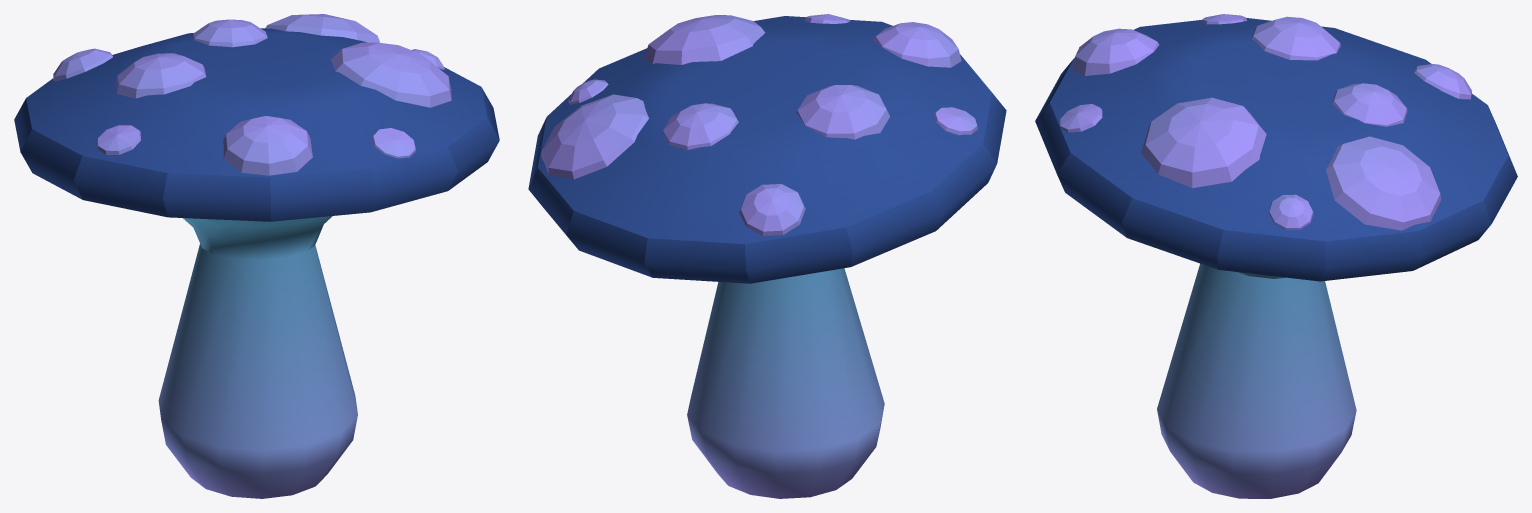
The model's file is SM_Mushroom_01.fbx.
3 renders of one model, left to right at view 1: azimuth 30°, elevation 25°; view 2: azimuth 150°, elevation 25°; view 3: azimuth 270°, elevation 25°, orthographic.
Parts seen in each view (by area): view 1: SM_Mushroom_01; view 2: SM_Mushroom_01; view 3: SM_Mushroom_01.
Part boxes in pixels (x1=…): SM_Mushroom_01: x1=14, y1=14, x2=499, y2=498; SM_Mushroom_01: x1=528, y1=14, x2=1006, y2=498; SM_Mushroom_01: x1=1035, y1=14, x2=1517, y2=498.
Size of the model in its own units: 2.71 by 2.58 by 2.75.
